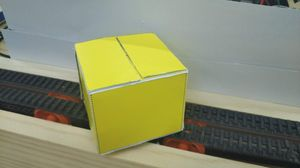box4: (72, 31, 186, 157)
